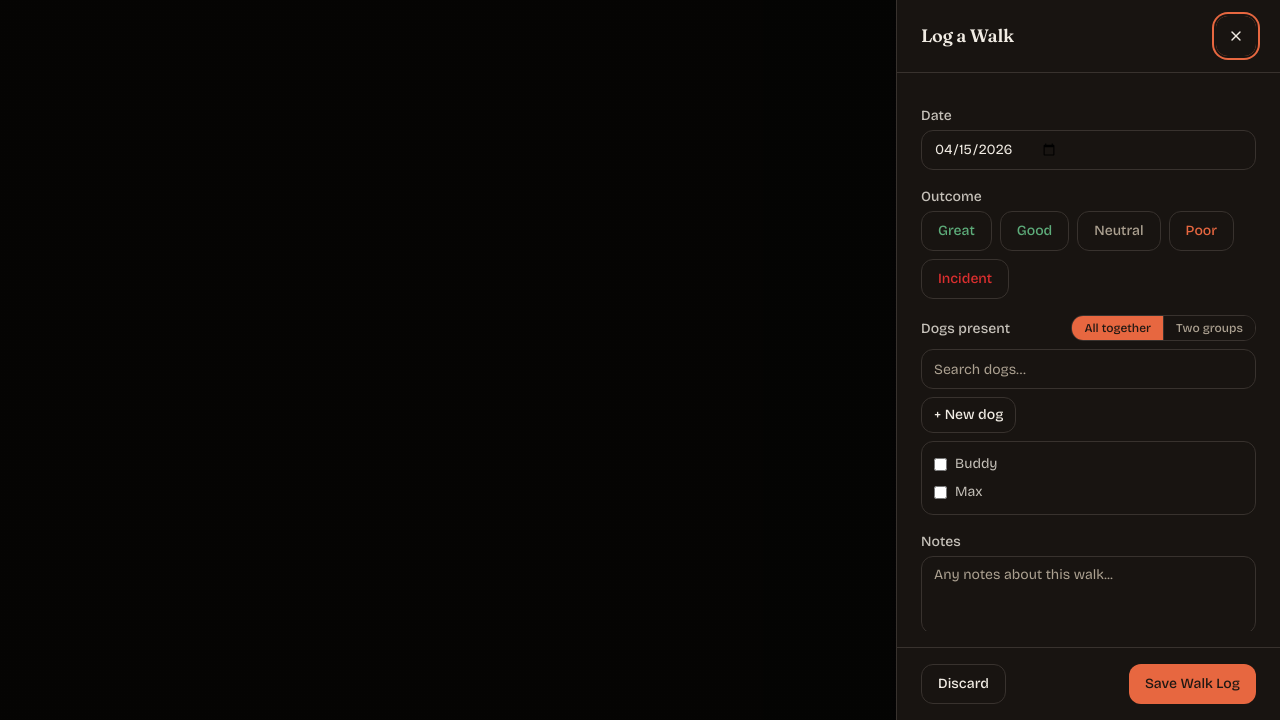
Test: WalkLogSheet - inline add dog › clicking "+ New dog" reveals the name input
Expected: the field with placeholder "Dog name" is not shown
What coordinates should you click on to do the following:
click the button "+ New dog"
I would click on:
 (969, 415)
Its box is [921,397,1016,433].
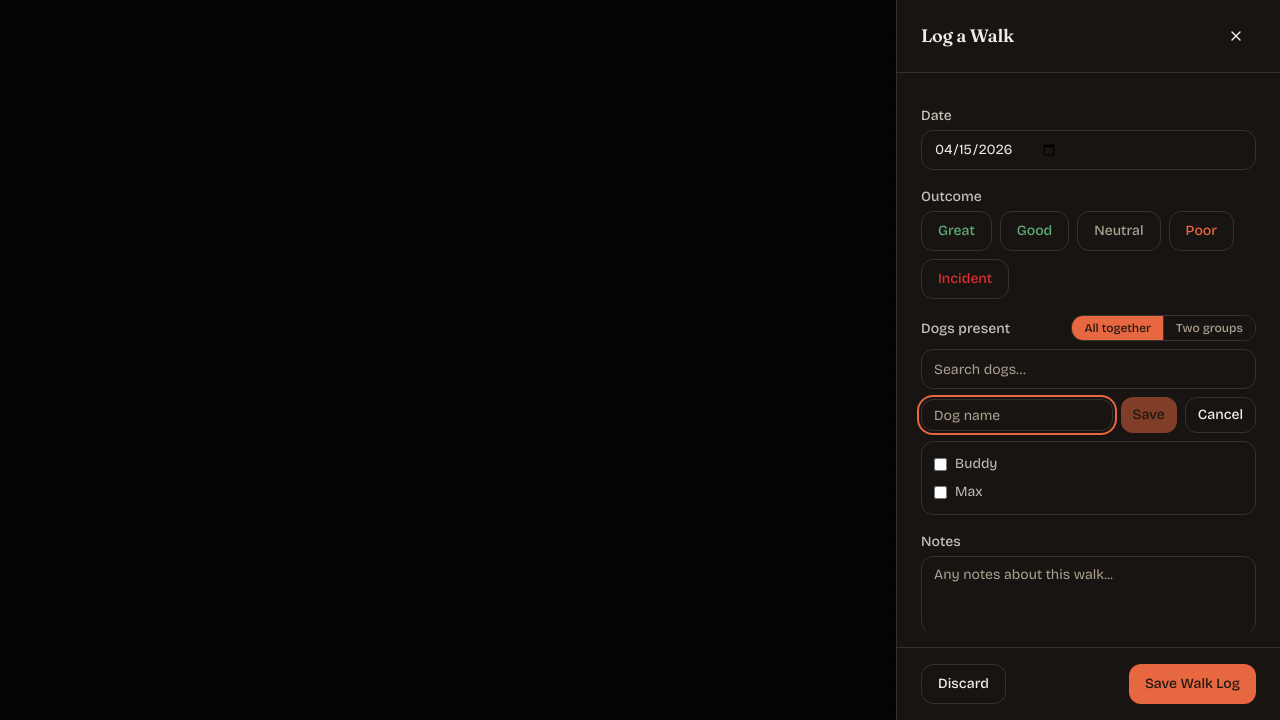
Expected: the field with placeholder "Dog name" is shown, [921,399,1113,431]
